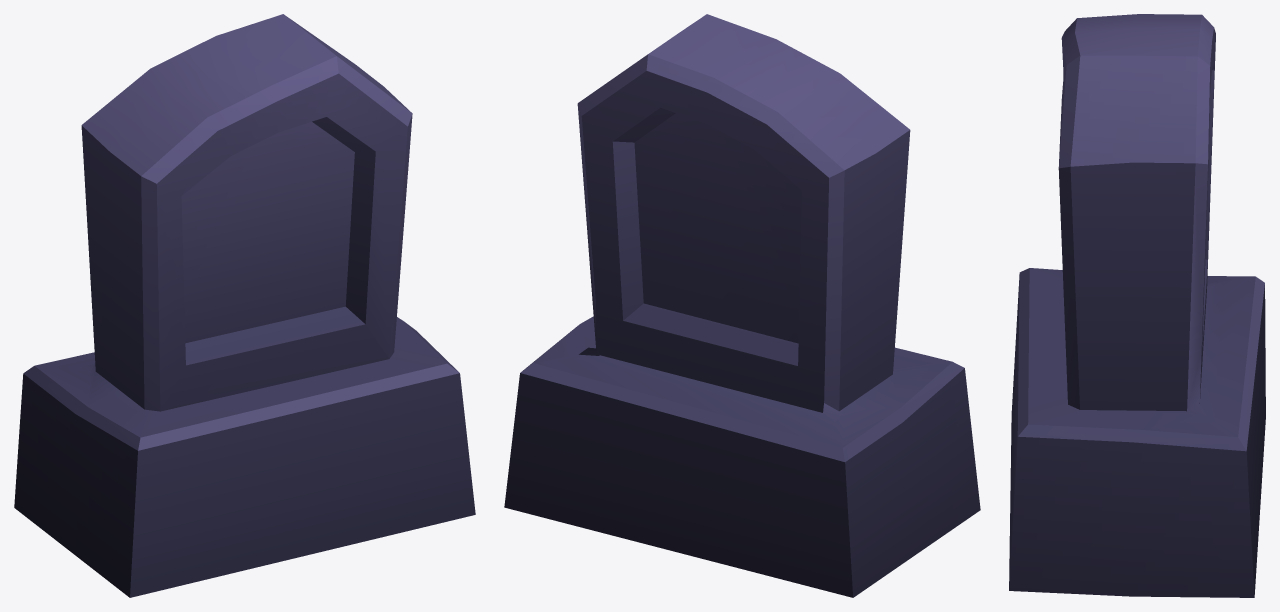
The model's file is prop_tomb_2.glb.
3 renders of one model, left to right at view 1: azimuth 30°, elevation 25°; view 2: azimuth 150°, elevation 25°; view 3: azimuth 270°, elevation 25°, orthographic. The views are drawn at different scales.
Parts seen in each view (by area): view 1: prop_tomb_2; view 2: prop_tomb_2; view 3: prop_tomb_2.
Part boxes in pixels (box(x1,y1,x2,y2)): prop_tomb_2: box(14, 14, 475, 597); prop_tomb_2: box(504, 14, 980, 597); prop_tomb_2: box(1009, 14, 1265, 597).
Bounding box in the file's own units: 2.41 × 2.96 × 1.43.
1 material, 1 textured.
